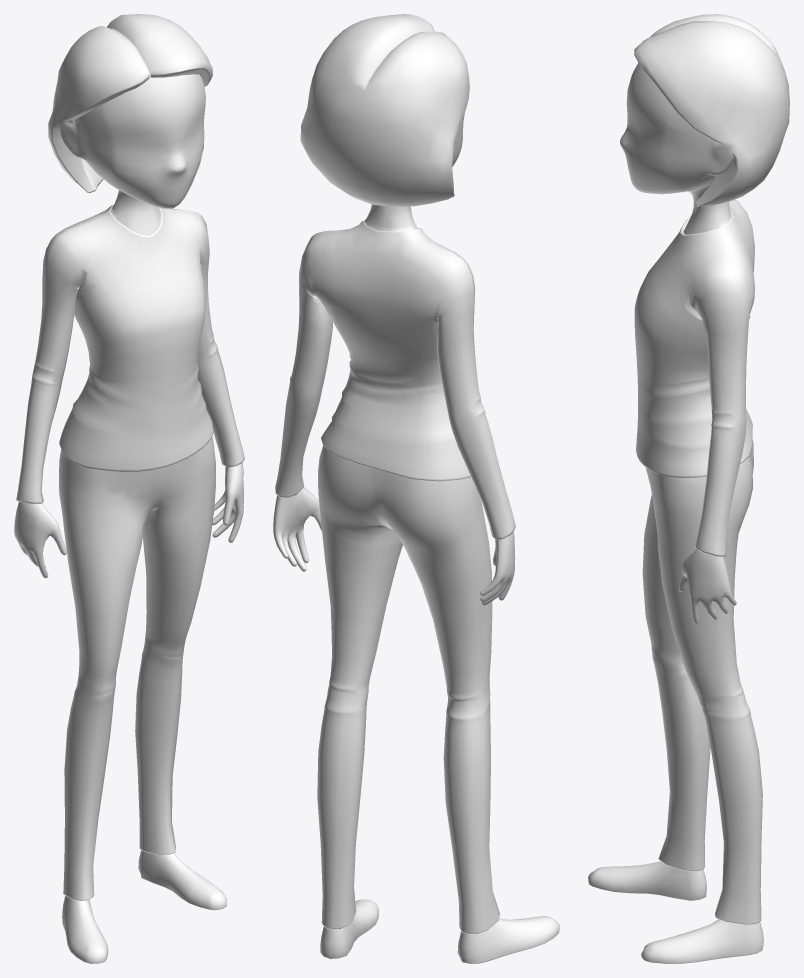
The model's file is Modelo-mujer.fbx.
3 renders of one model, left to right at view 1: azimuth 30°, elevation 25°; view 2: azimuth 150°, elevation 25°; view 3: azimuth 270°, elevation 25°, orthographic. The views are drawn at different scales.
Visible parts, largest first — view 1: root; view 2: root; view 3: root.
Part boxes in pixels (bbox=[...]): root: bbox=[14, 14, 244, 963]; root: bbox=[273, 14, 559, 963]; root: bbox=[588, 14, 789, 963].
Bounding box in the file's own units: 1.45 × 5.41 × 1.09.
1 material, 1 textured.
